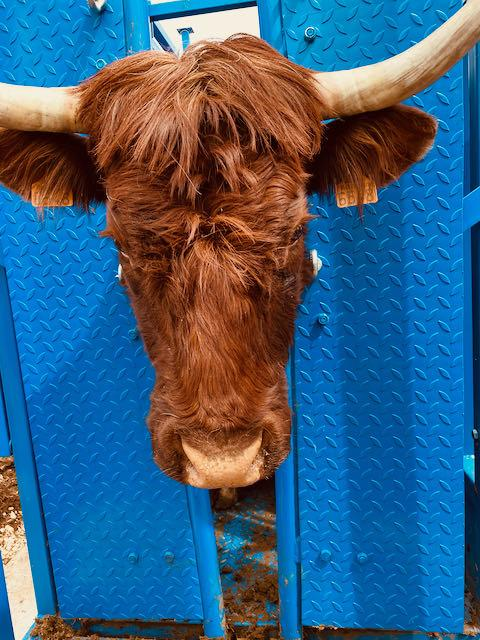muzzles: (141, 427, 303, 497)
